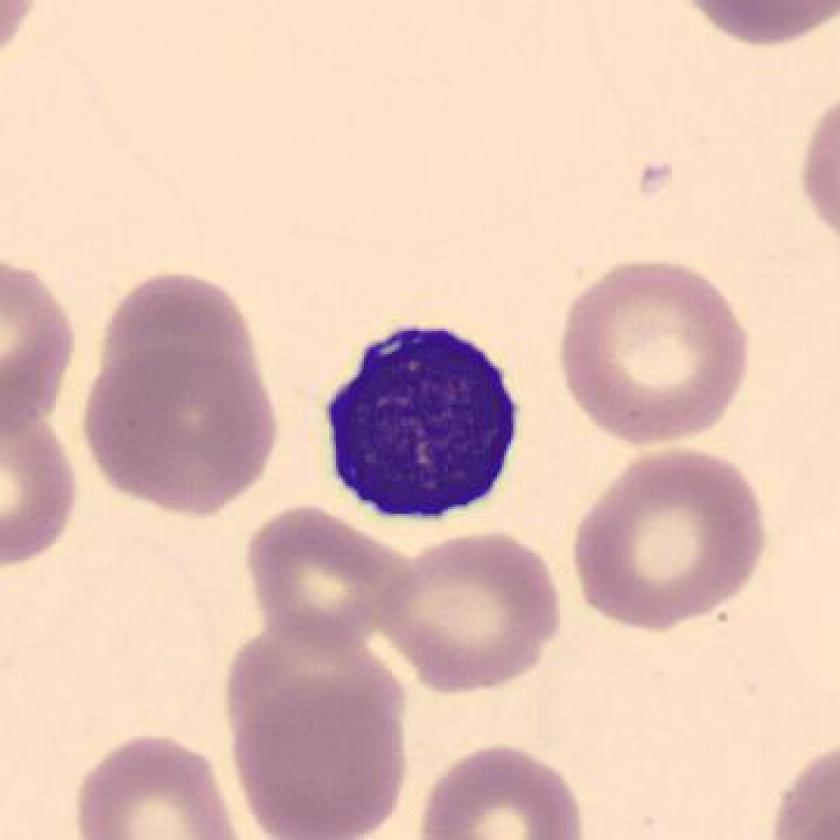lymphocyte: (307, 314, 542, 536)
